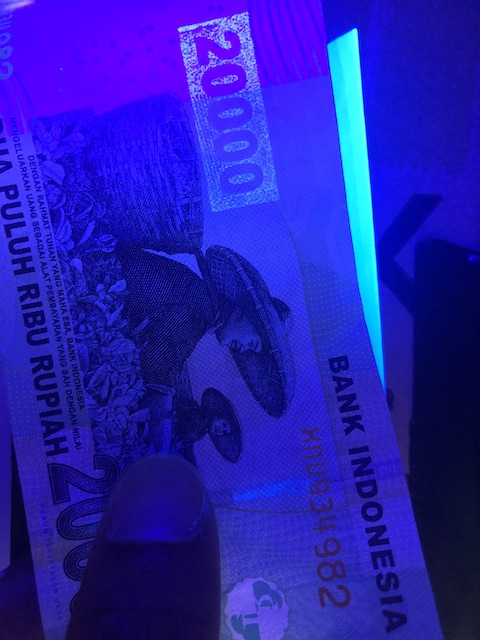20_RIBU_ASLI: (178, 9, 283, 209)
